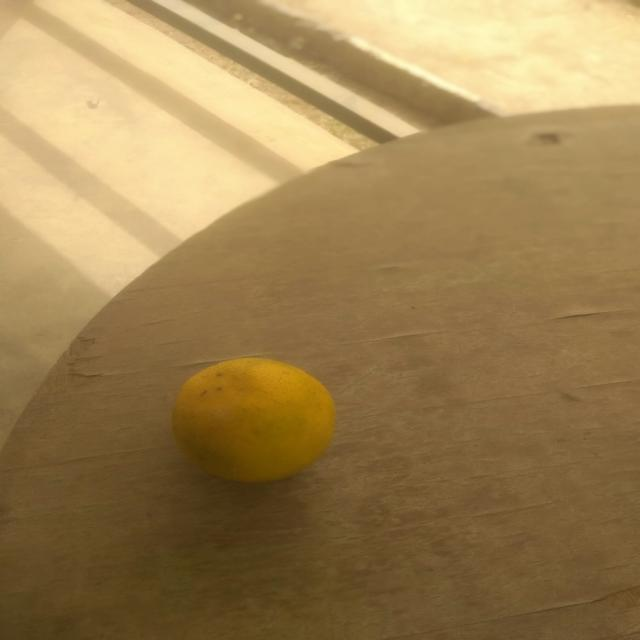Ripe orange: (162, 347, 353, 492)
